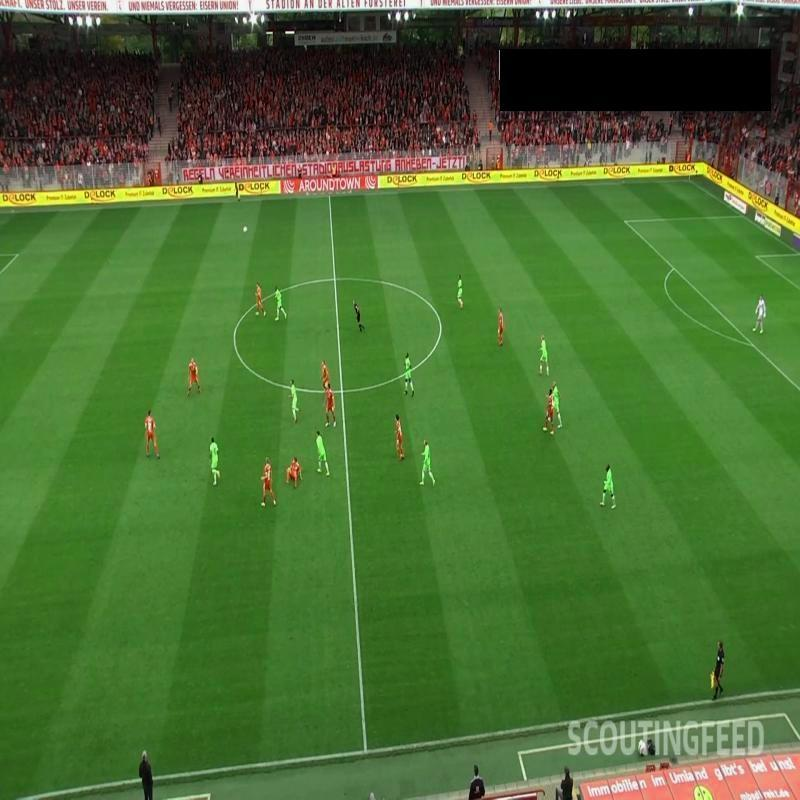1: (682, 174, 696, 188)
10: (666, 262, 681, 276)
11: (746, 339, 760, 353)
13: (323, 189, 337, 203)
14: (328, 272, 342, 286)
15: (334, 382, 348, 396)
16: (356, 740, 375, 762)
2: (736, 210, 750, 224)
7: (750, 249, 764, 262)
9: (8, 250, 26, 262), (618, 215, 632, 229)
c: (432, 314, 449, 334), (227, 332, 241, 345)
